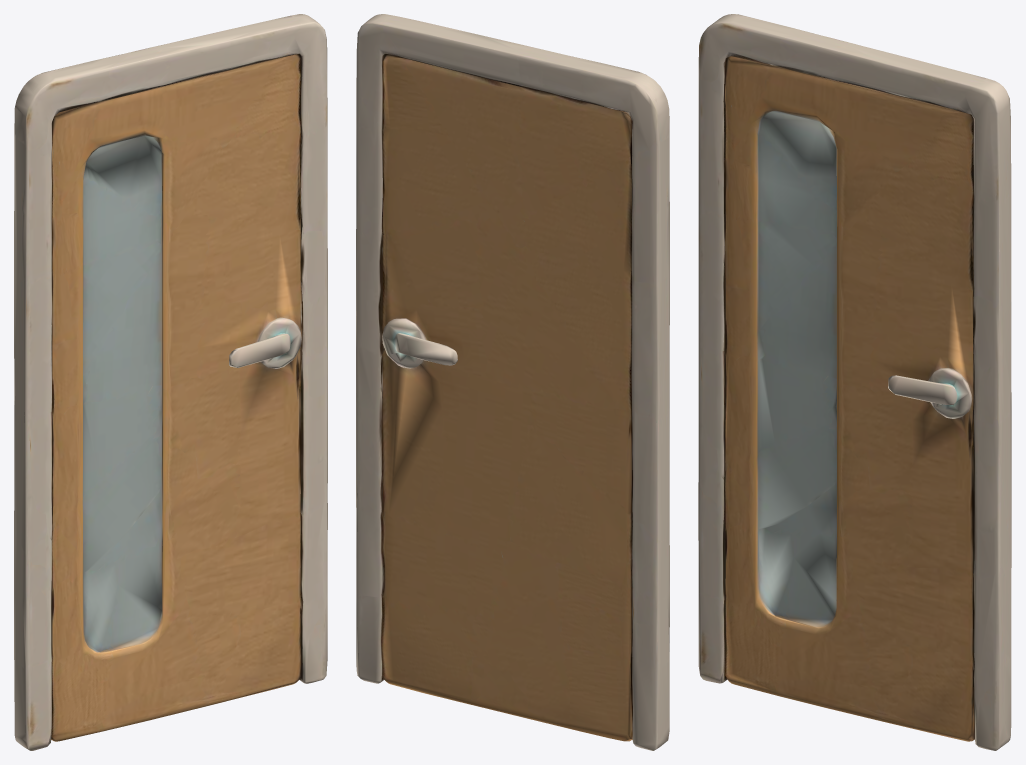
The model's file is door.low.glb.
3 views of the same model, side by side, from view 1: azimuth 30°, elevation 25°; view 2: azimuth 150°, elevation 25°; view 3: azimuth 330°, elevation 25° (orthographic).
Visible parts, largest first — view 1: tripo_node_c5667a89-3a60-4292-91c1-d144dbeb9029; view 2: tripo_node_c5667a89-3a60-4292-91c1-d144dbeb9029; view 3: tripo_node_c5667a89-3a60-4292-91c1-d144dbeb9029.
Part boxes in pixels (x1,y1,x2,y2): tripo_node_c5667a89-3a60-4292-91c1-d144dbeb9029: [14, 14, 327, 750]; tripo_node_c5667a89-3a60-4292-91c1-d144dbeb9029: [356, 14, 669, 750]; tripo_node_c5667a89-3a60-4292-91c1-d144dbeb9029: [698, 14, 1011, 750].
Size of the model in its own units: 0.9998 by 2.1 by 0.1378.
Materials: 1 (1 with a texture image).
